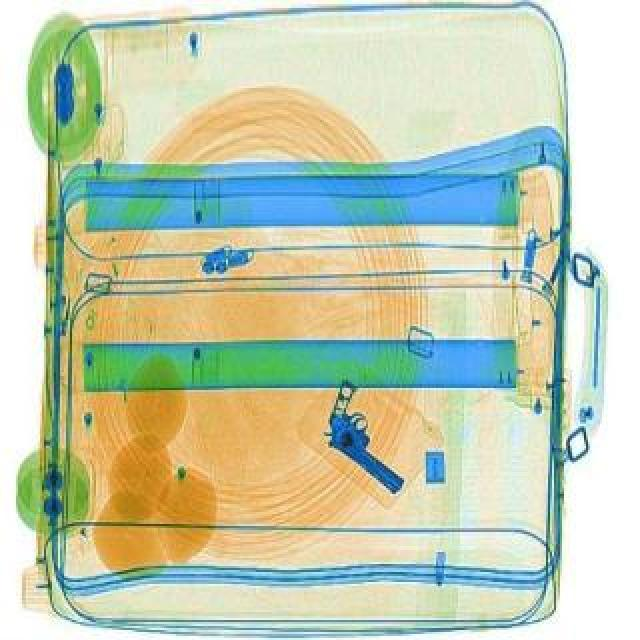gun: (304, 378, 436, 490)
